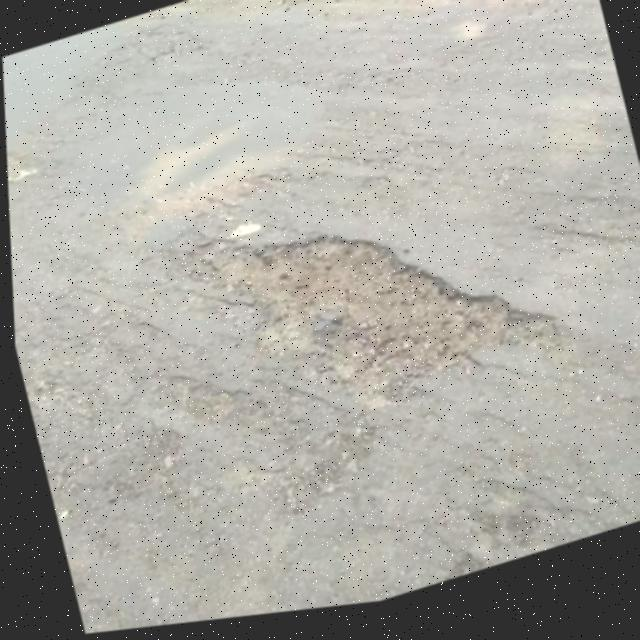Pothole: (165, 147, 573, 475)
